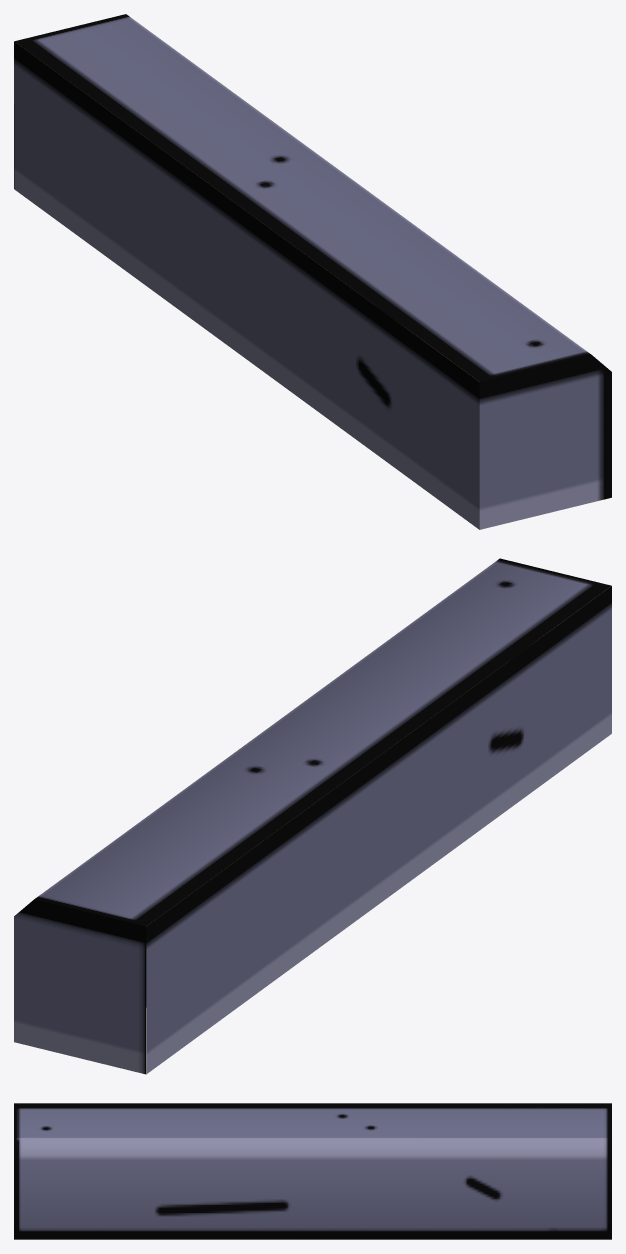
The model's file is quarter_curb.fbx.
3 views of the same model, one above another, from view 1: azimuth 30°, elevation 25°; view 2: azimuth 150°, elevation 25°; view 3: azimuth 270°, elevation 25° (orthographic). The views are drawn at different scales.
Parts seen in each view (by area): view 1: quarter_curb; view 2: quarter_curb; view 3: quarter_curb.
Part boxes in pixels (left/top/right/bottom): quarter_curb: left=14, top=14, right=611, bottom=529; quarter_curb: left=14, top=558, right=611, bottom=1074; quarter_curb: left=14, top=1103, right=611, bottom=1239.
Size of the model in its own units: 19.5 by 20.82 by 119.
